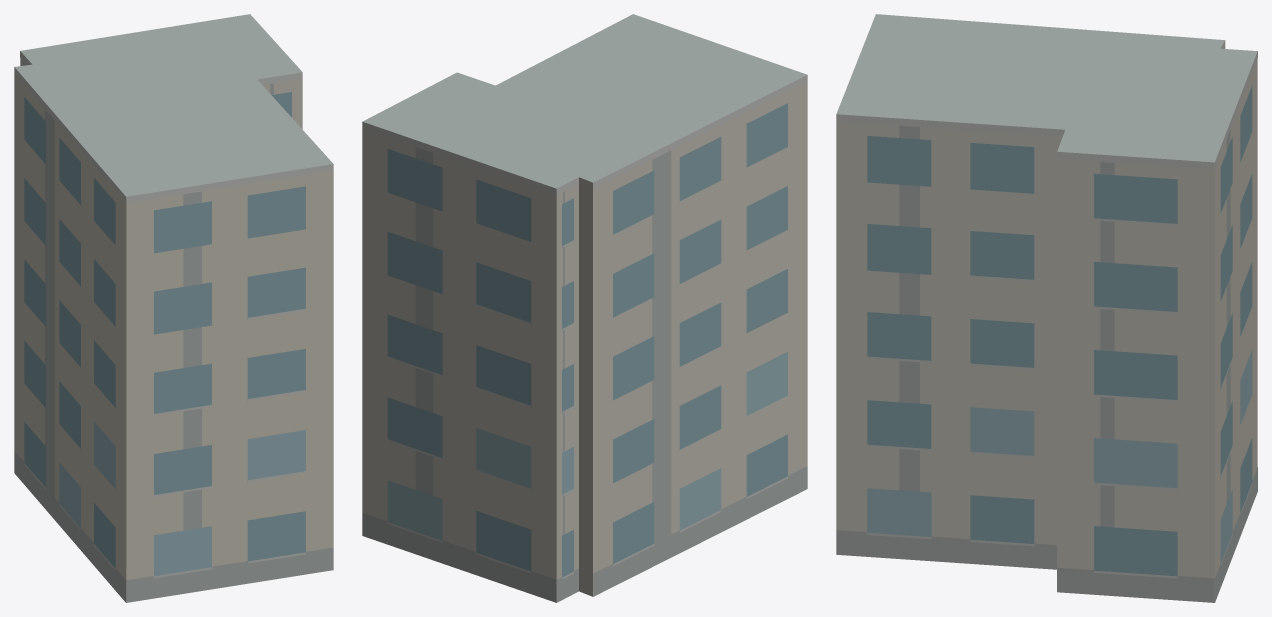
File: survey-upis-32798550.glb
3 views of the same model, side by side, from view 1: azimuth 30°, elevation 25°; view 2: azimuth 150°, elevation 25°; view 3: azimuth 270°, elevation 25° (orthographic). The views are drawn at different scales.
Visible parts, largest first — view 1: survey-upis-32798550.tmp; view 2: survey-upis-32798550.tmp; view 3: survey-upis-32798550.tmp.
Boxes of the visible parts, x1=… form: survey-upis-32798550.tmp: x1=14, y1=14, x2=333, y2=602; survey-upis-32798550.tmp: x1=362, y1=14, x2=807, y2=602; survey-upis-32798550.tmp: x1=836, y1=14, x2=1257, y2=602.
Size of the model in its own units: 10.66 by 14.75 by 12.8.
